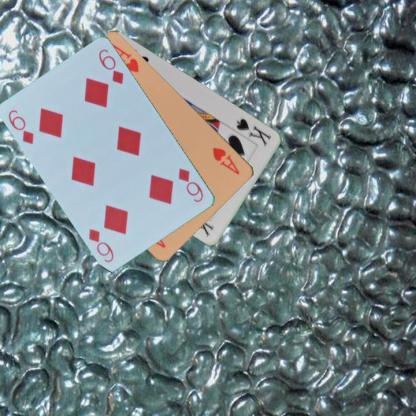6d: (6, 107, 36, 147), (176, 165, 205, 204)
Ah: (210, 145, 242, 176)
Ks: (233, 115, 274, 148)
